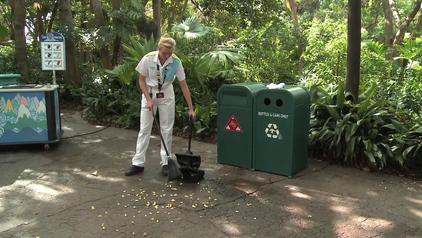stay: (129, 37, 191, 159)
